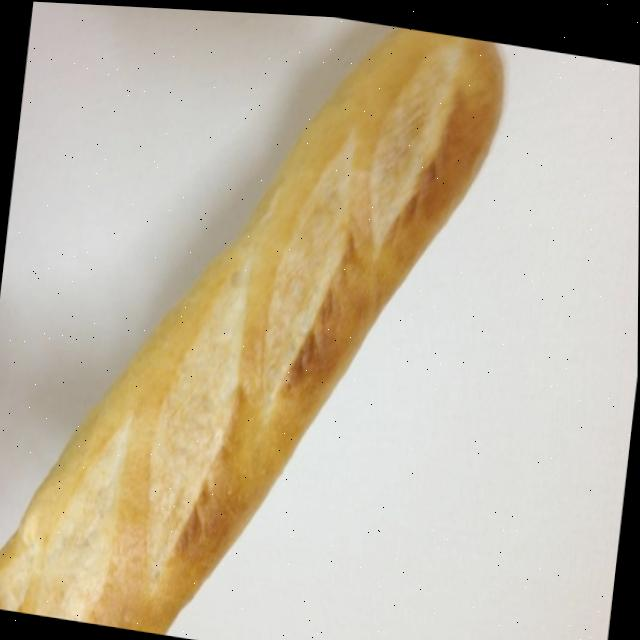熟制海鲜: (0, 6, 581, 587)
